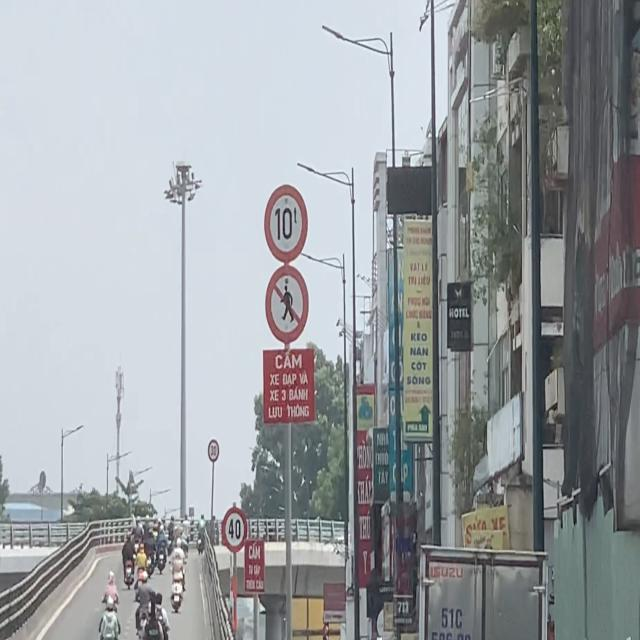Cam con lai: (265, 266, 309, 344)
Toc do toi da: (222, 506, 248, 554), (208, 438, 220, 462)
Trong tai toi da: (264, 185, 308, 262)
